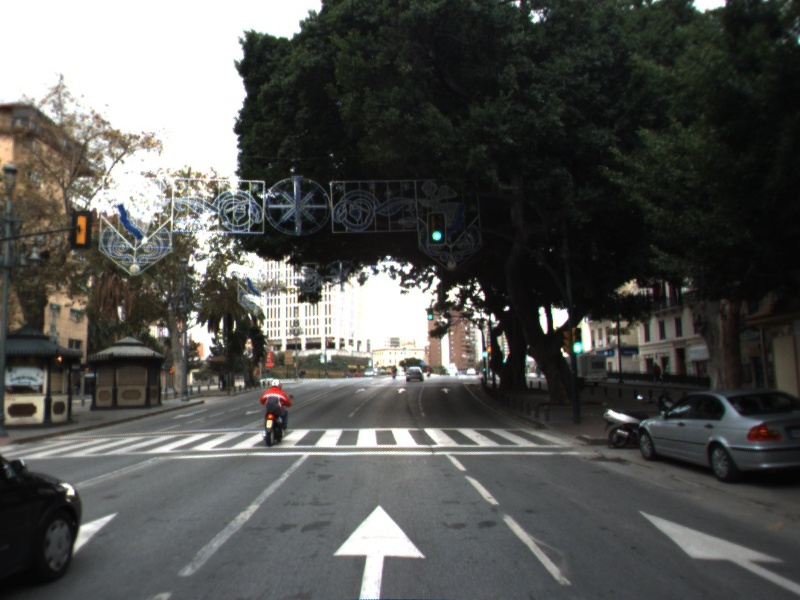STRAIGHT: (635, 505, 800, 594), (328, 501, 431, 600)
